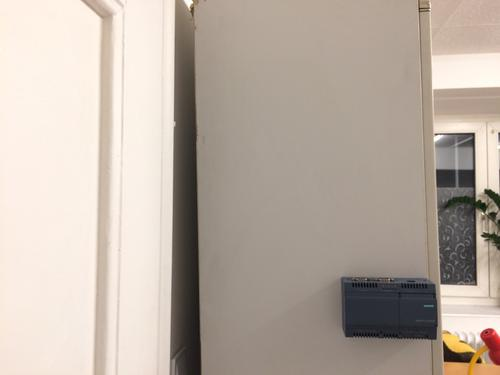iot2000: (341, 277, 439, 341)
